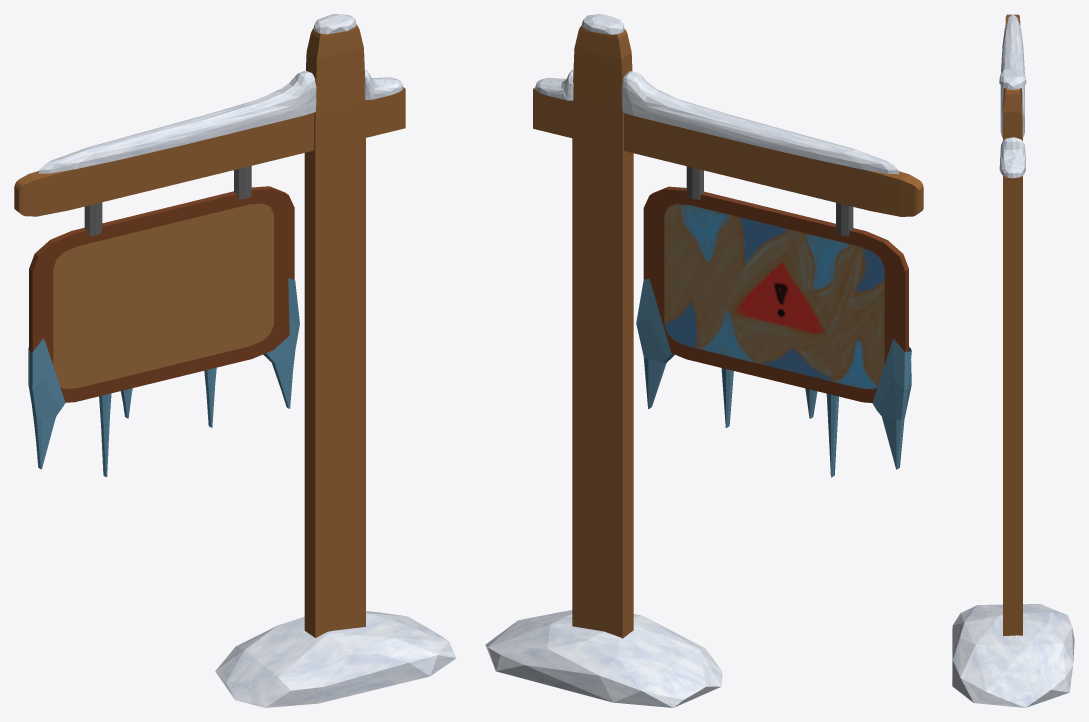
Rendered from Schild 3.glb.
3 renders of one model, left to right at view 1: azimuth 30°, elevation 25°; view 2: azimuth 150°, elevation 25°; view 3: azimuth 270°, elevation 25°, orthographic. The views are drawn at different scales.
Visible parts, largest first — view 1: Cube.006; view 2: Cube.006; view 3: Cube.006.
Part boxes in pixels (box(x1,y1,x2,y2)): Cube.006: box(14, 14, 456, 707); Cube.006: box(485, 14, 923, 707); Cube.006: box(952, 14, 1074, 707).
Bounding box in the file's own units: 1.41 × 2.04 × 0.3859.
Materials: 6 (2 with a texture image).
